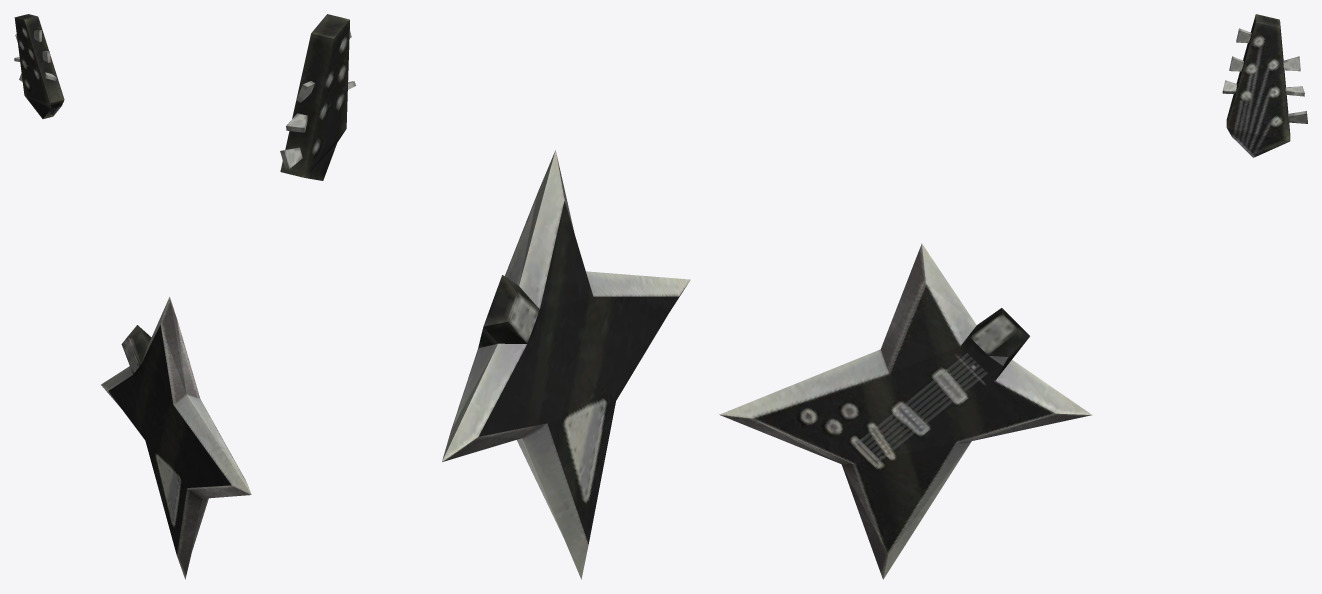
Rendered from Panda_starGuitar.obj.
3 views of the same model, side by side, from view 1: azimuth 30°, elevation 25°; view 2: azimuth 150°, elevation 25°; view 3: azimuth 270°, elevation 25° (orthographic). The views are drawn at different scales.
Parts seen in each view (by area): view 1: Panda_starGuitar_tri; view 2: Panda_starGuitar_tri; view 3: Panda_starGuitar_tri.
Part boxes in pixels (x1,y1,x2,y2): Panda_starGuitar_tri: (14,14,251,579); Panda_starGuitar_tri: (280,14,690,579); Panda_starGuitar_tri: (719,14,1307,579).
Bounding box in the file's own units: 0.041 × 0.6233 × 0.5944.
Materials: 1 (1 with a texture image).
